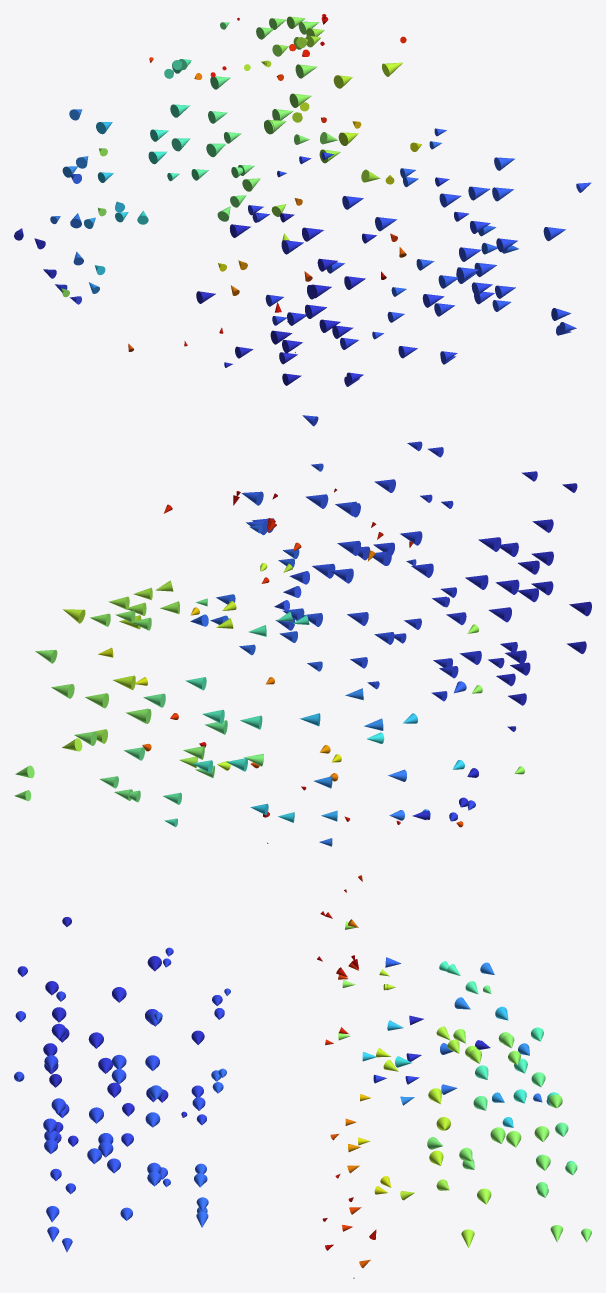
The model's file is LineasCorrienteN2-H2O_mh2-6.88_V-0.7.glb.
3 views of the same model, one above another, from view 1: azimuth 30°, elevation 25°; view 2: azimuth 150°, elevation 25°; view 3: azimuth 270°, elevation 25° (orthographic). The views are drawn at different scales.
Bounding box in the file's own units: 0.000971 × 0.000835 × 0.00122.
2 materials, 2 textured.
